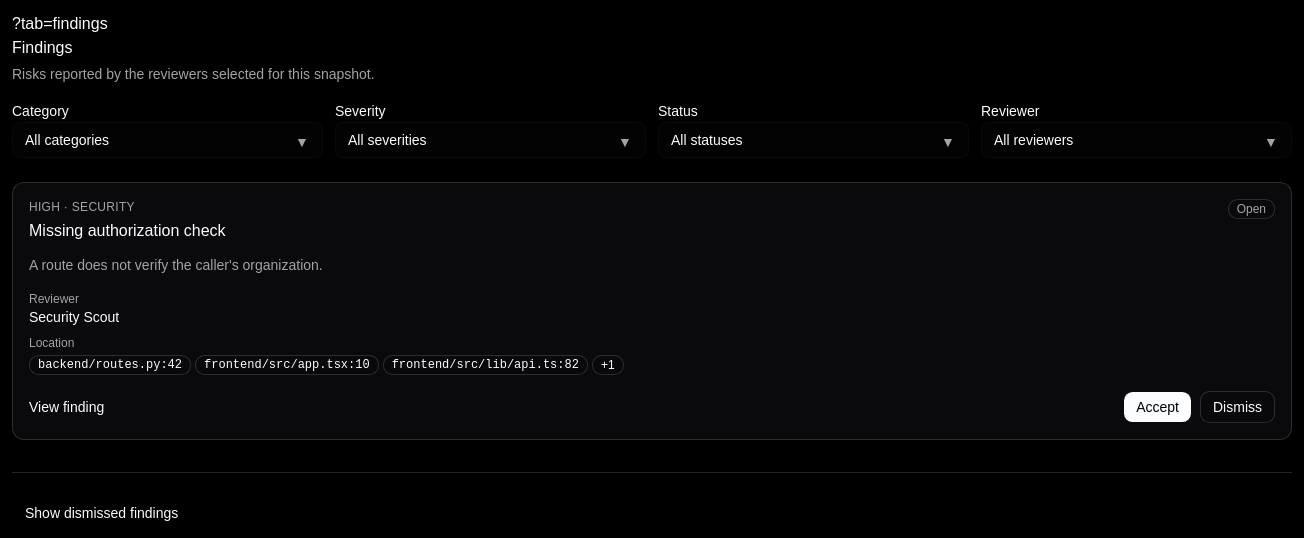
Test case: ReviewFindings › writes filter selections to the URL before querying the next result set
The width and height of the screenshot is (1304, 538).
Click the dropdown labelled "status".
click(707, 140)  # box [658,122,969,158]
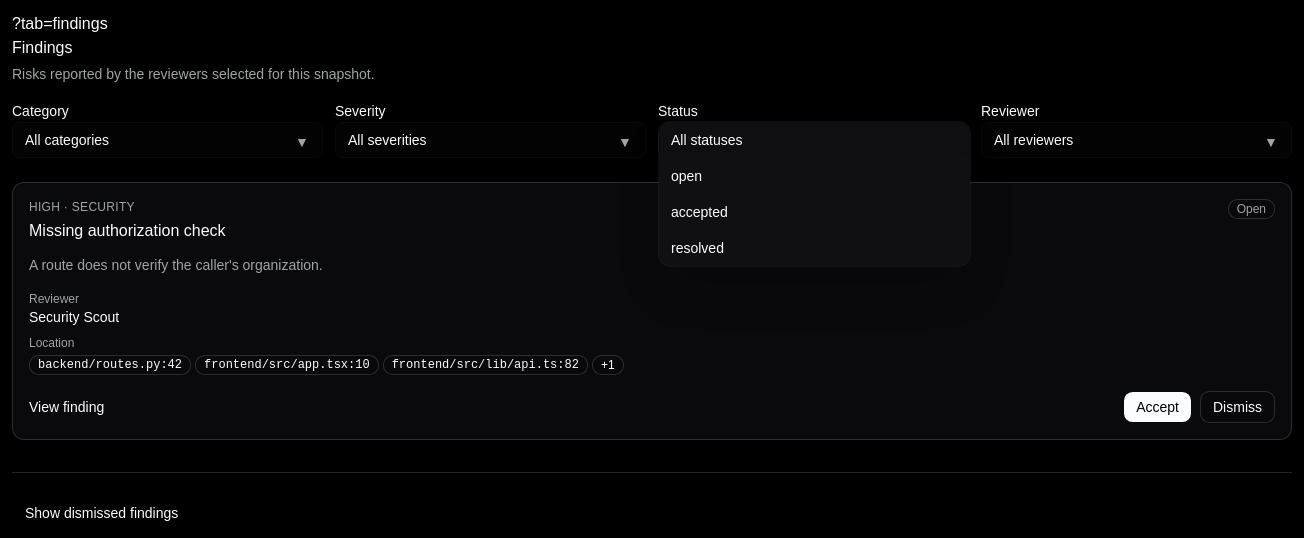
Click the option "resolved".
click(697, 248)  # box [671,240,724,256]
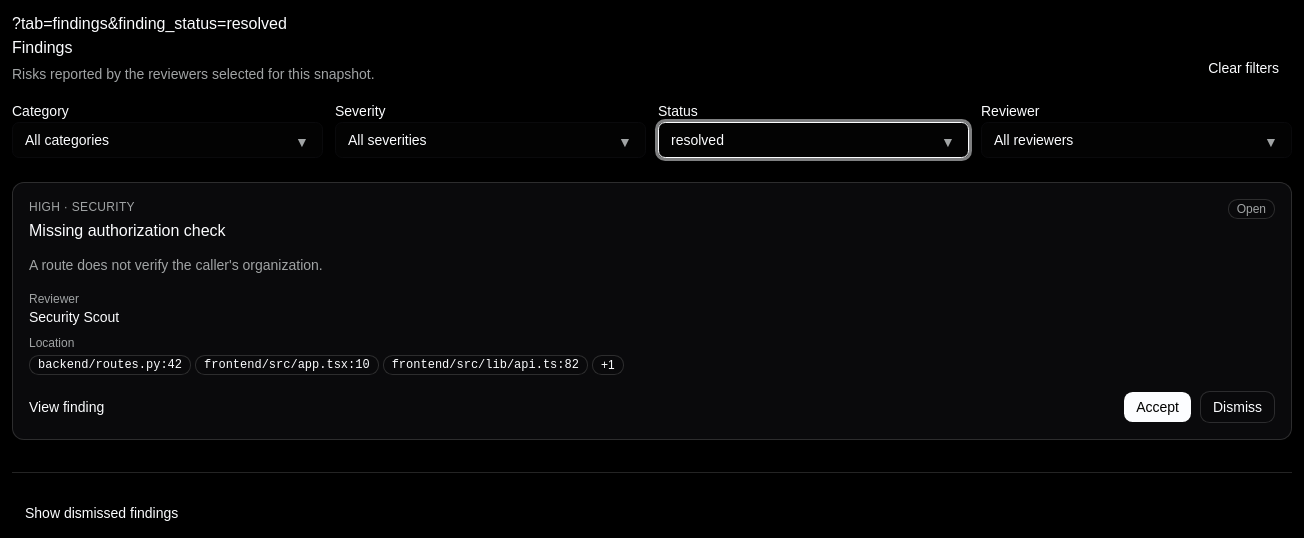
Expected: the text with test id "location" reads "?tab=findings&finding_status=resolved", [12,15,287,32]
